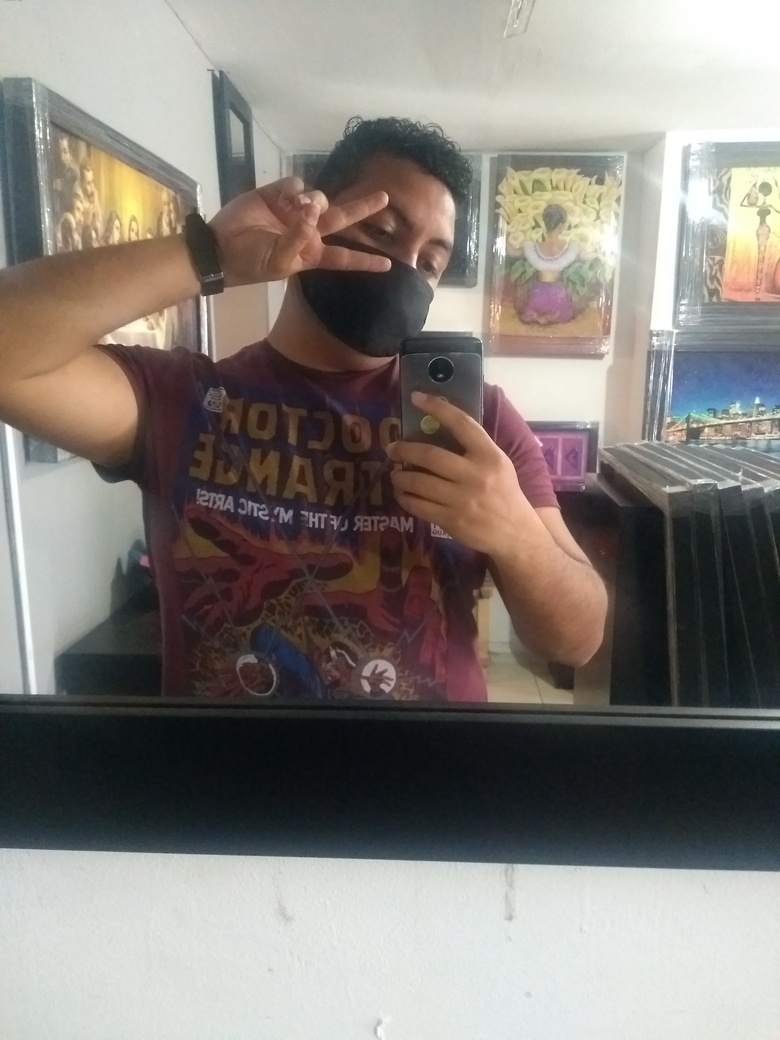Yoshi: (251, 61, 497, 376)
